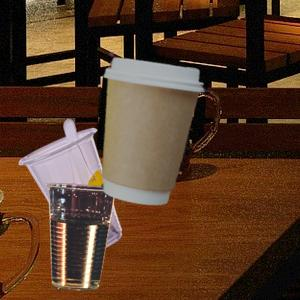cup: (100, 57, 200, 208)
